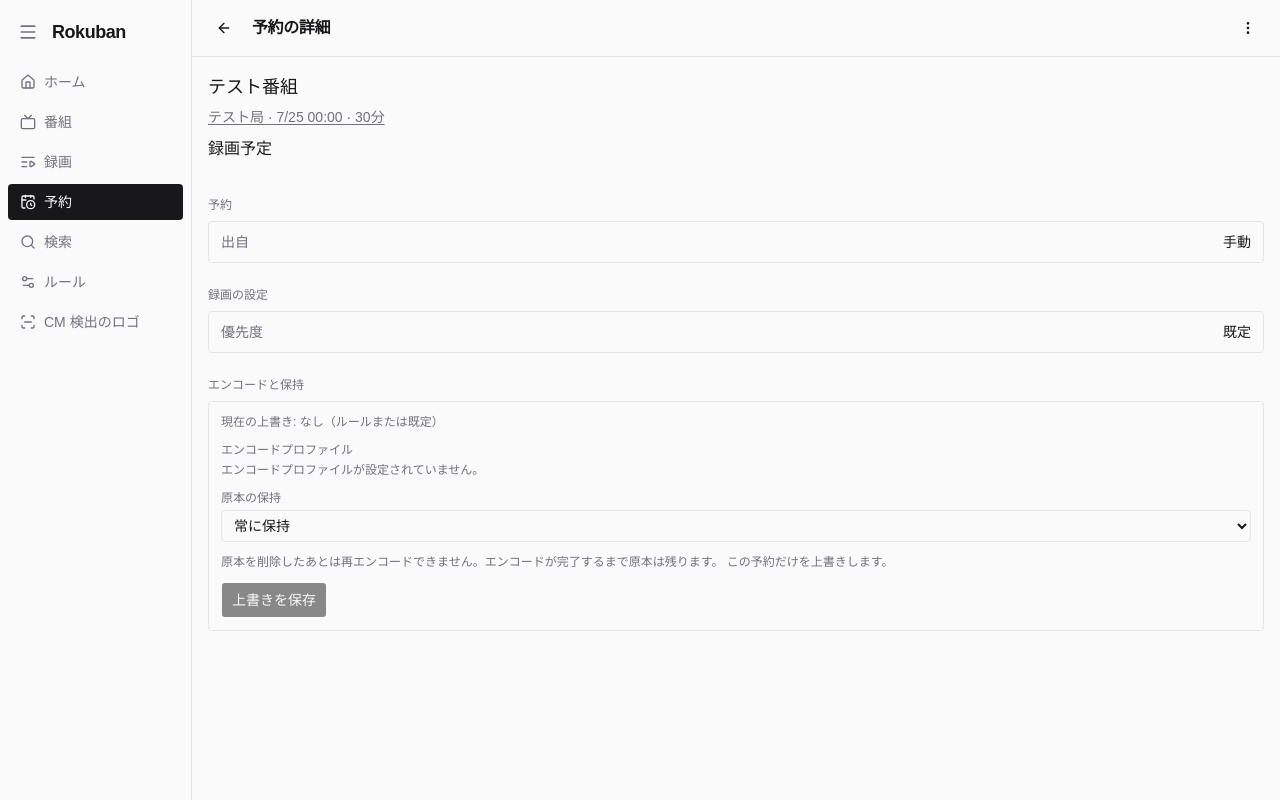
Test: ReservationDetailPage › 予約取消が失敗すると、汎用文言にサーバー本文を付けたトーストが出る
The image size is (1280, 800).
Expected: the heading "テスト番組" is shown, [208, 77, 298, 97]
Expected: the button "予約を取消" is not shown
Click the button named "予約のその他の操作". click: (1248, 28)
box: [1232, 12, 1264, 44]
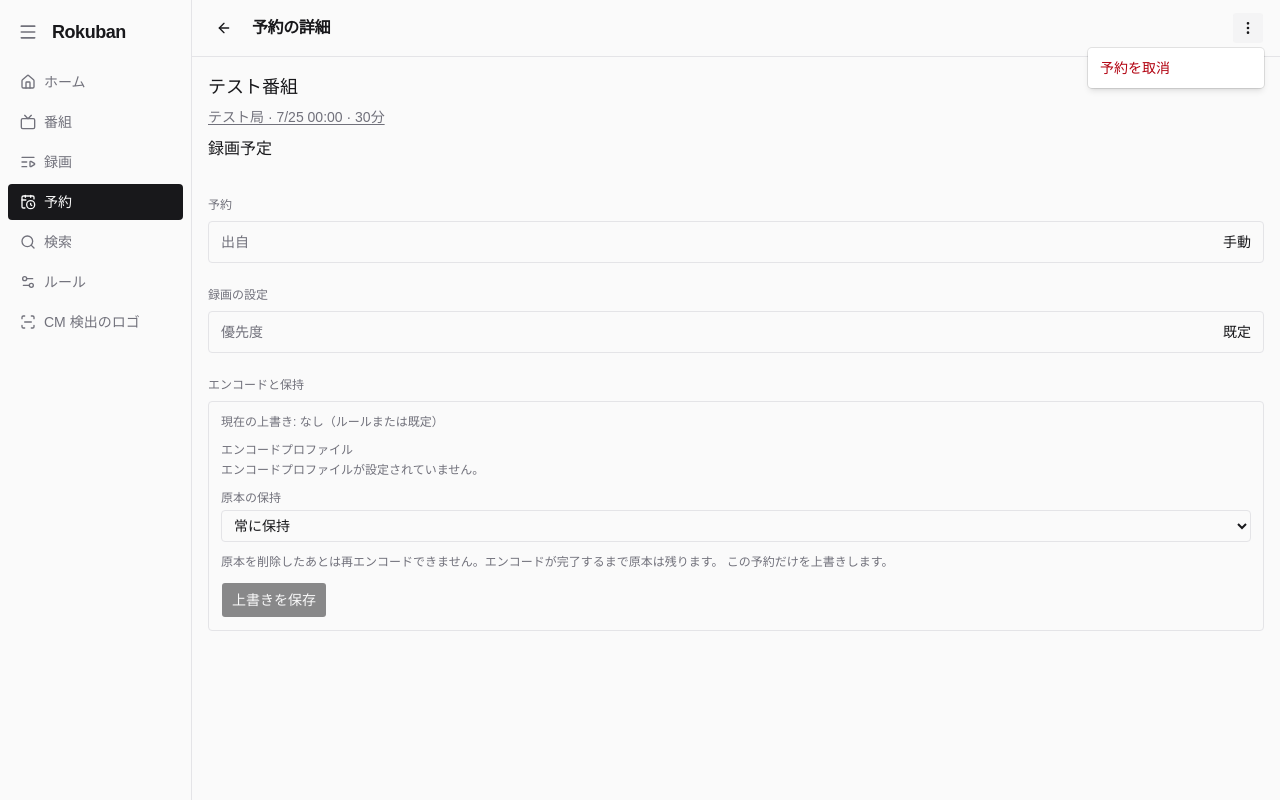
Expected: the menu item "予約を取消" is shown
Click the menu item "予約を取消". click: (1135, 68)
box: [1100, 60, 1170, 76]
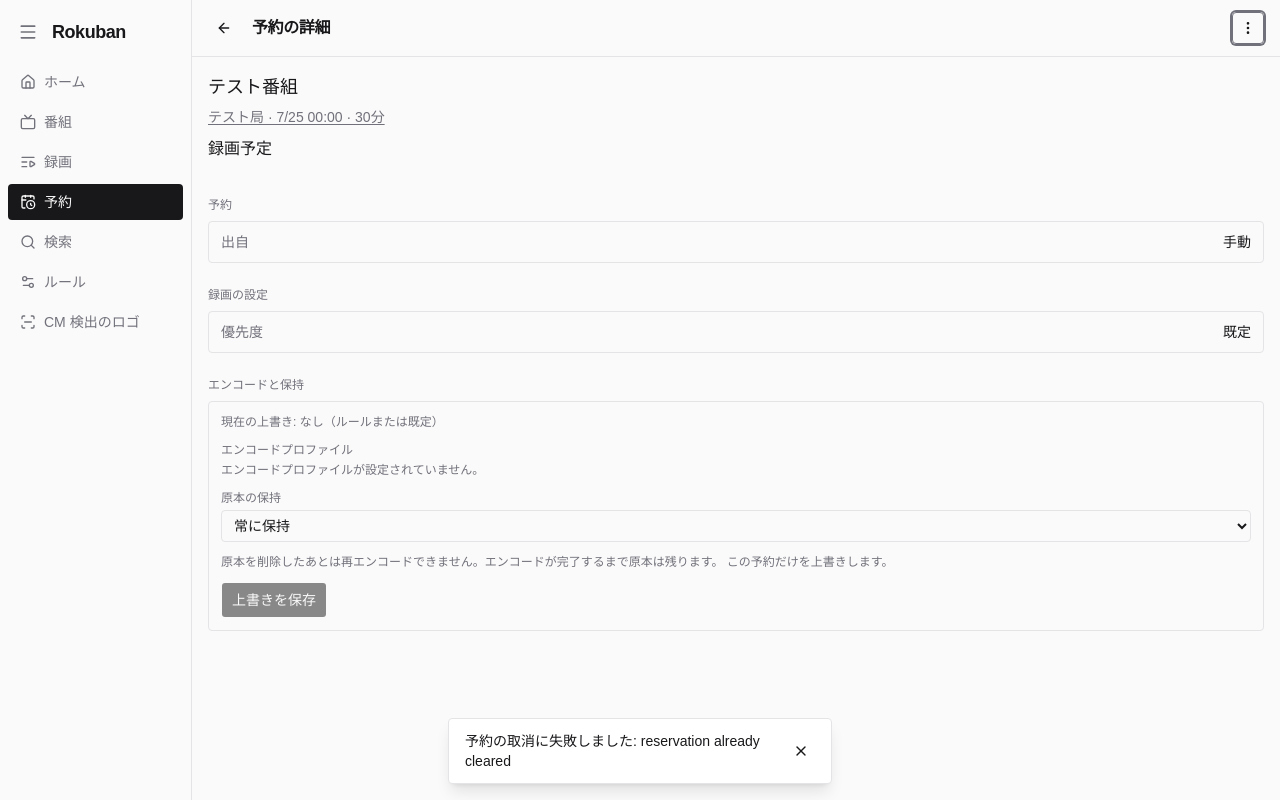
Expected: the text "予約の取消に失敗しました: reservation already cleared" is shown, [465, 731, 775, 771]
